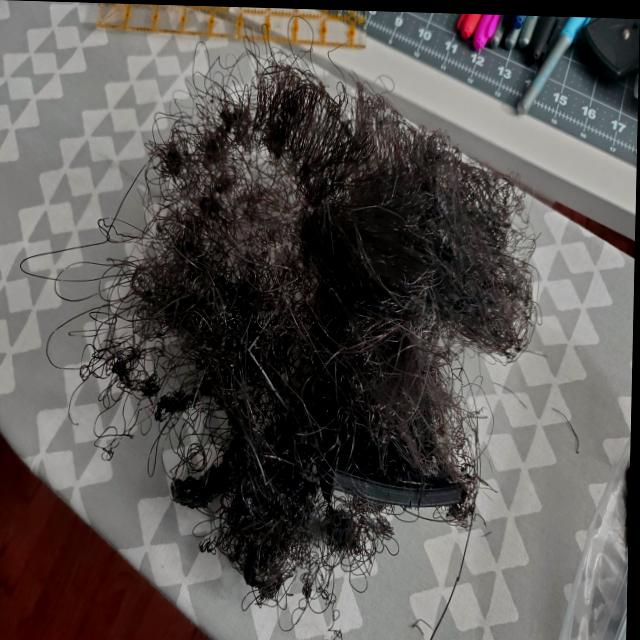spaghetti: (78, 48, 566, 585)
